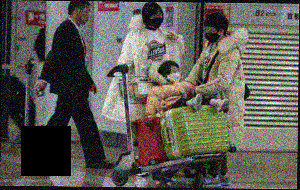with_mask: (203, 27, 221, 44), (149, 12, 164, 29), (167, 68, 182, 84)
without_mask: (78, 7, 92, 26)
